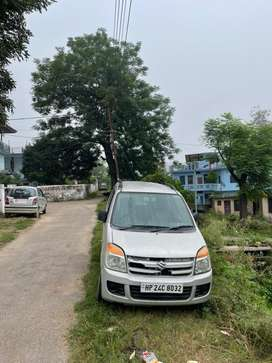HP24C8D32: (140, 283, 183, 293)
